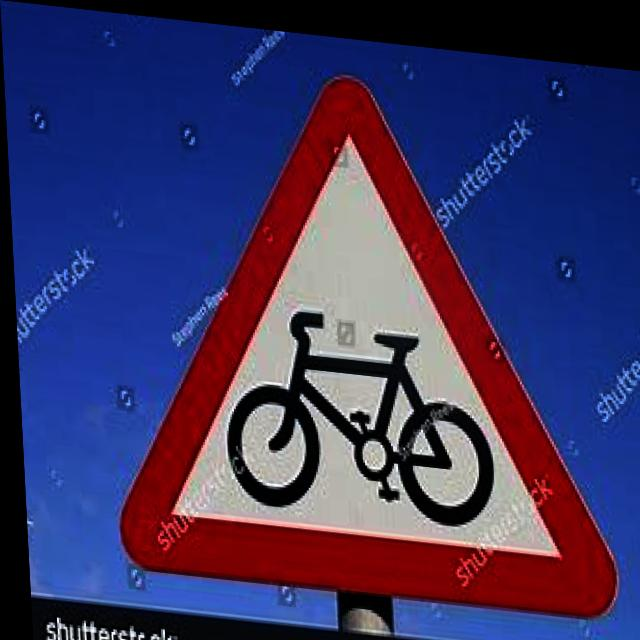CYCLE_CROSSING: (95, 43, 614, 608)
